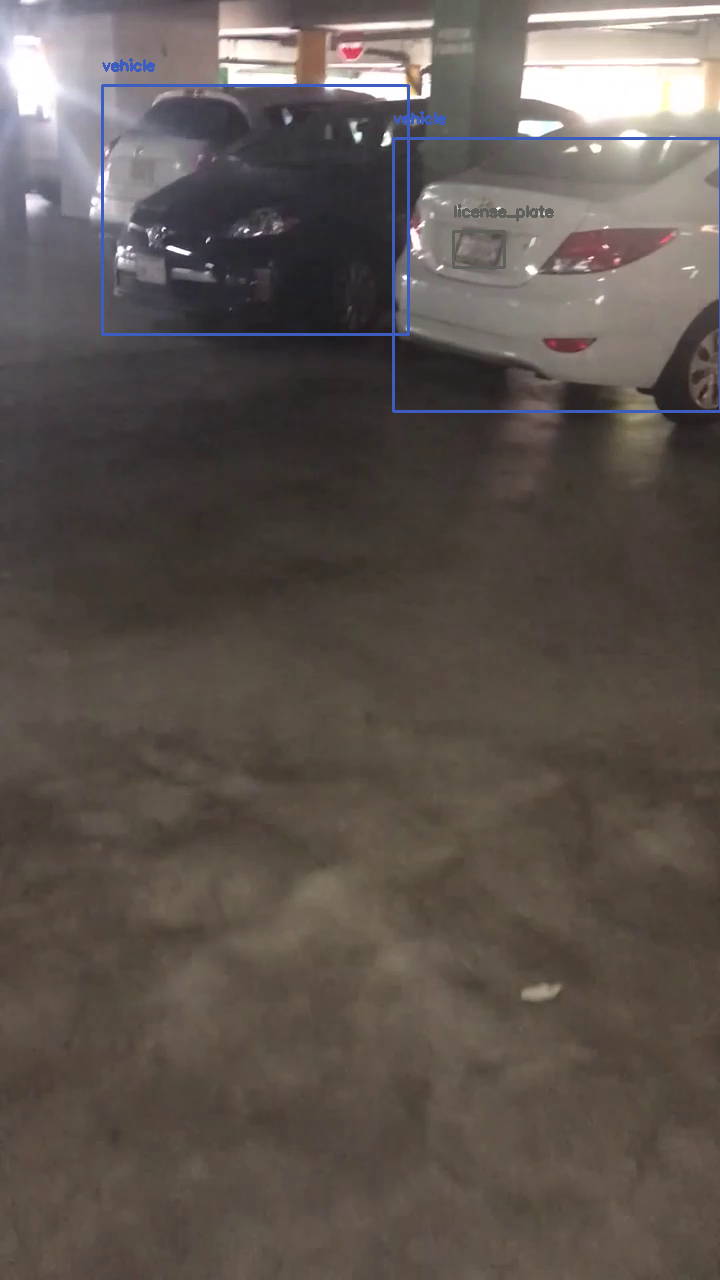license_plate: (453, 231, 504, 267)
vehicle: (393, 138, 720, 411), (102, 85, 408, 334)
